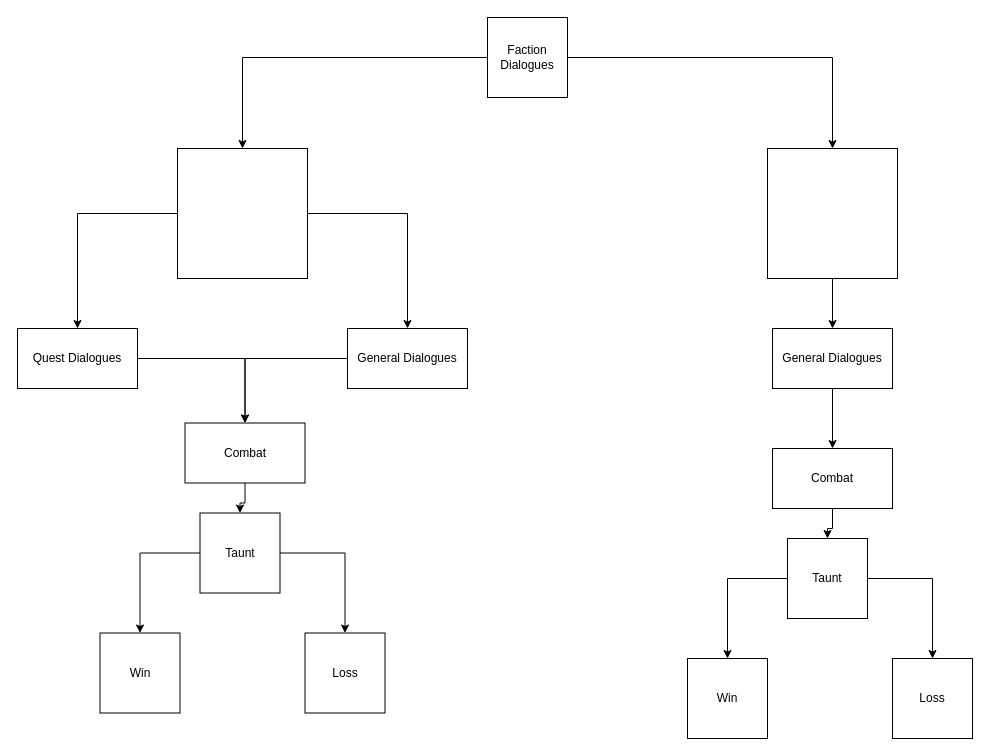
Image size: 990x756. Some labels were removed from this diagram. The centre of each missing label's shape, as x and y in pixels:
"Generic Homies" belongs at (x=832, y=213).
"Unique Homie" belongs at (x=242, y=213).
